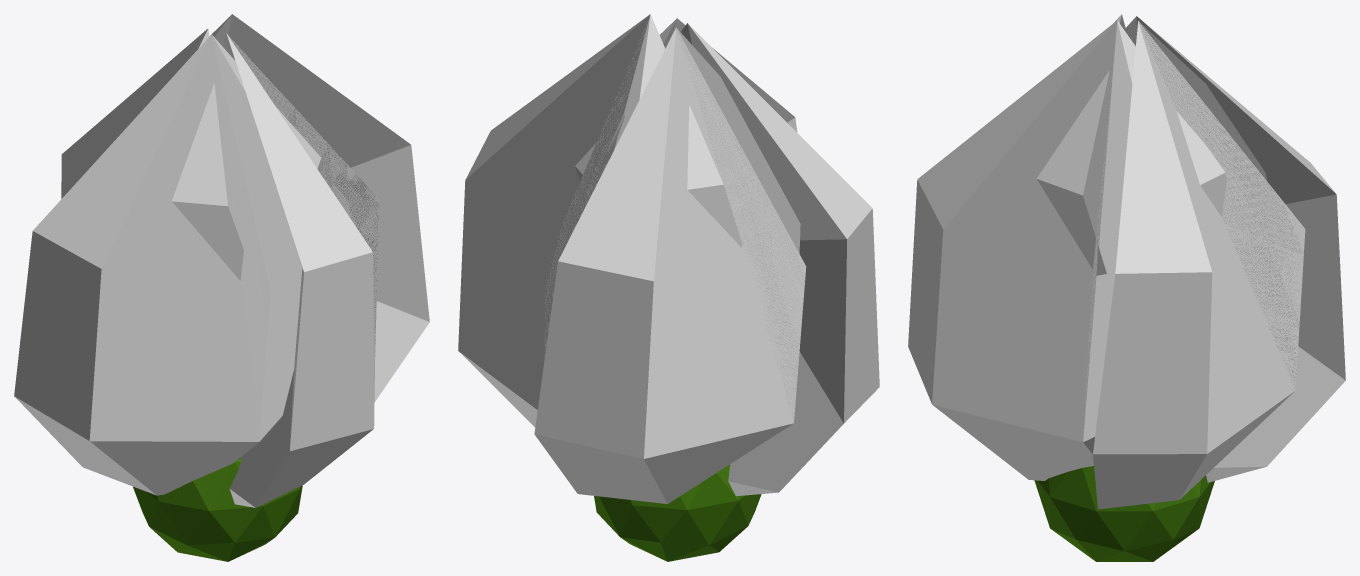
The model's file is flower.fbx.
3 views of the same model, side by side, from view 1: azimuth 30°, elevation 25°; view 2: azimuth 150°, elevation 25°; view 3: azimuth 270°, elevation 25° (orthographic). The views are drawn at different scales.
Parts seen in each view (by area): view 1: leaf.002, leaf.003, leaf, leaf.001, fruit; view 2: leaf.001, leaf, leaf.002, fruit, leaf.003; view 3: leaf.003, leaf, leaf.001, fruit, leaf.002.
Boxes of the visible parts, x1=… form: leaf.002: x1=14, y1=34, x2=321, y2=495; leaf.003: x1=223, y1=33, x2=379, y2=507; leaf: x1=209, y1=14, x2=429, y2=401; leaf.001: x1=61, y1=28, x2=243, y2=280; fruit: x1=133, y1=457, x2=302, y2=561; leaf.001: x1=534, y1=27, x2=806, y2=503; leaf: x1=458, y1=14, x2=742, y2=427; leaf.002: x1=681, y1=23, x2=879, y2=496; fruit: x1=594, y1=464, x2=761, y2=561; leaf.003: x1=575, y1=18, x2=797, y2=181; leaf.003: x1=908, y1=20, x2=1226, y2=480; leaf: x1=1093, y1=20, x2=1305, y2=509; leaf.001: x1=1124, y1=16, x2=1345, y2=482; fruit: x1=1034, y1=466, x2=1214, y2=561; leaf.002: x1=1036, y1=14, x2=1125, y2=275.
Size of the model in its own units: 165 by 220 by 159.
